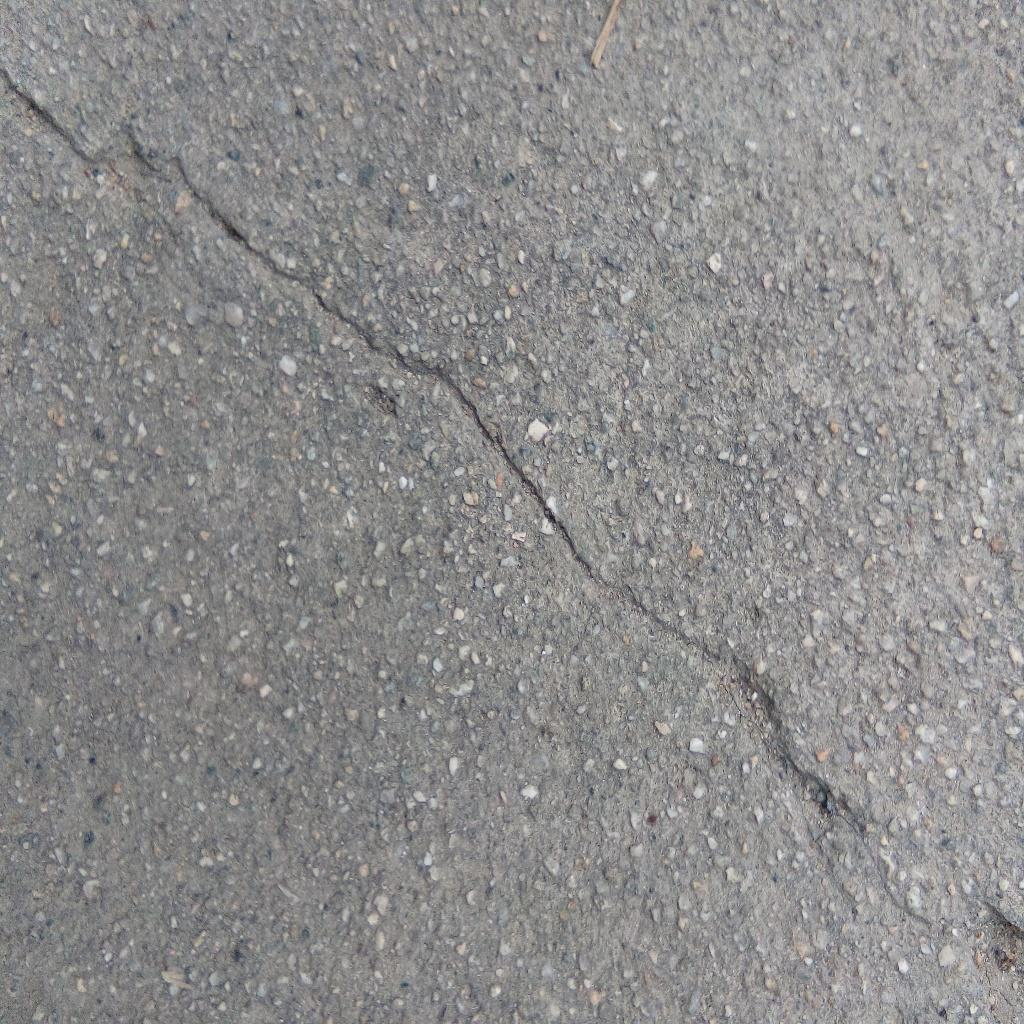Crack: (1, 67, 1024, 981)
